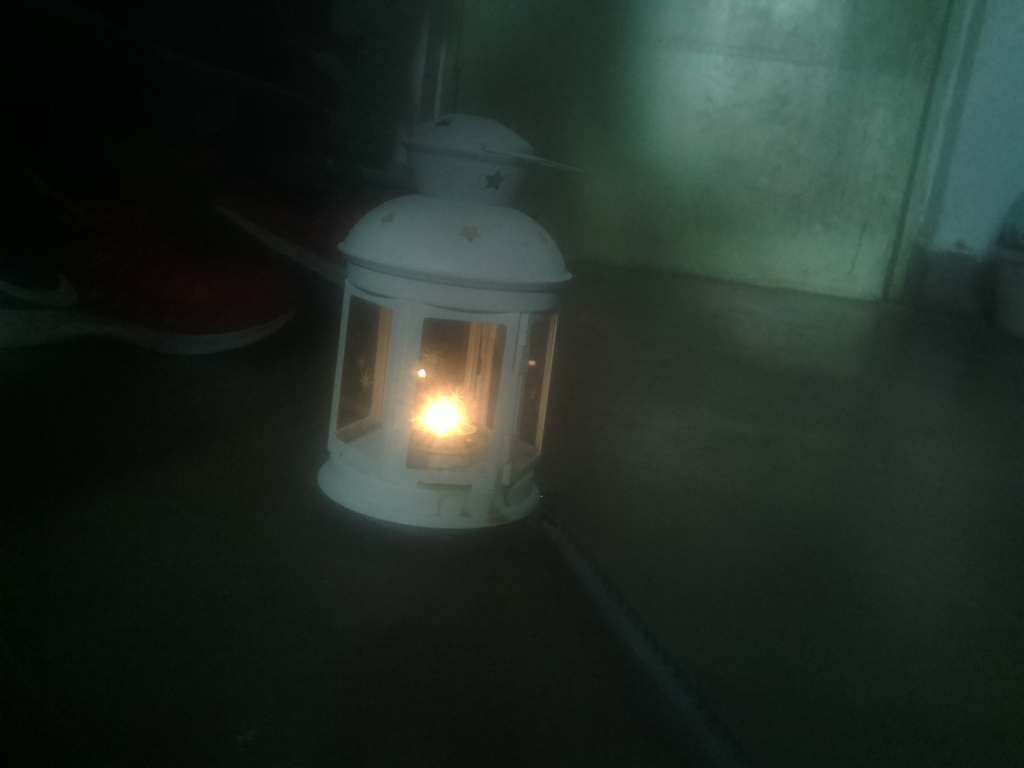fire: (391, 355, 504, 478)
